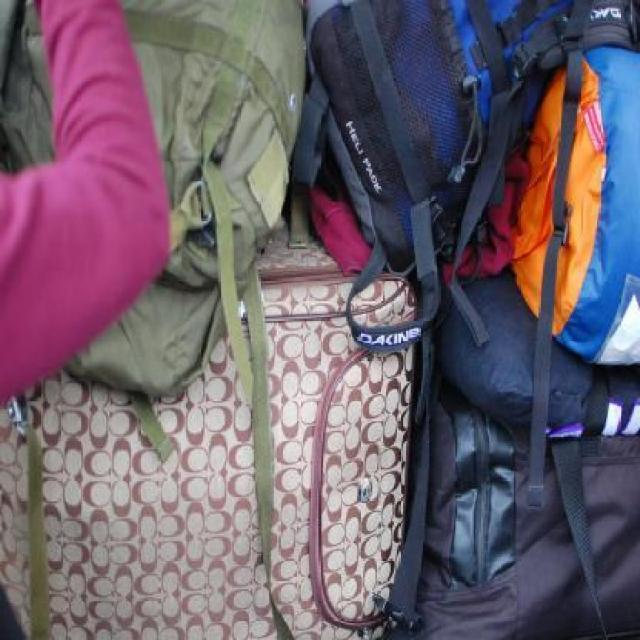backpack: (300, 0, 517, 277), (411, 423, 640, 640), (517, 48, 640, 372)
